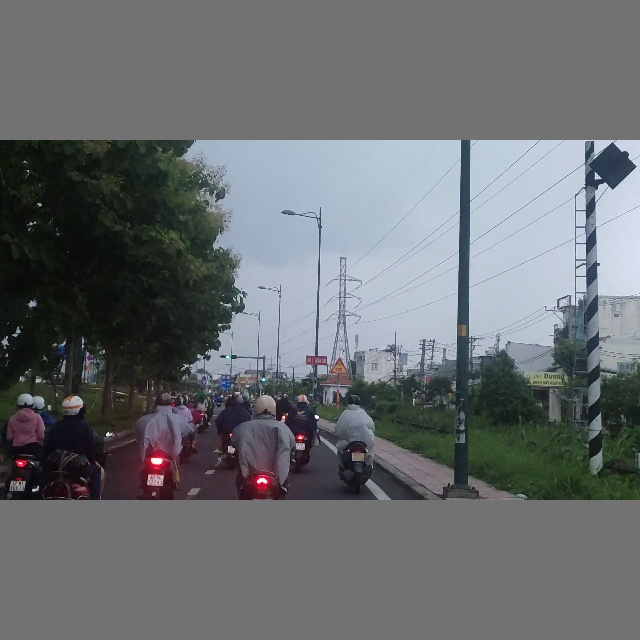W.210: (329, 357, 348, 374)
